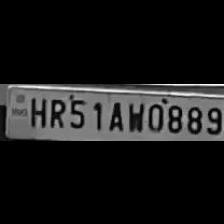0: (145, 99, 165, 131)
1: (89, 96, 106, 130)
5: (66, 94, 86, 130)
8: (165, 100, 183, 132), (184, 101, 202, 133)
9: (202, 101, 222, 133)
A: (104, 97, 124, 131)
H: (26, 93, 46, 126)
R: (46, 96, 64, 128)
W: (124, 98, 144, 132)
